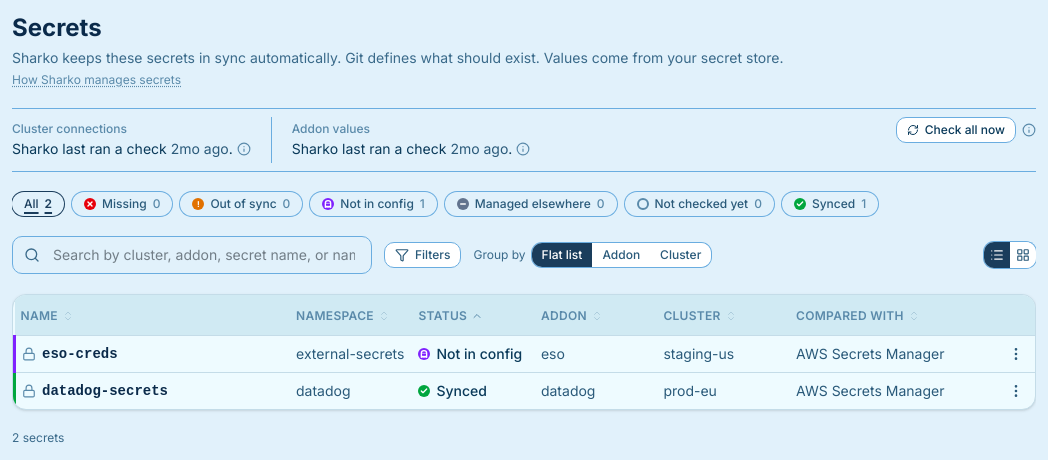
Test case: orphaned rows — the panel › shows the panel sentence (SSF-8 word pass: "Orphaned" → "Not in config")
The width and height of the screenshot is (1048, 460).
Click the button with test id "secret-row-orphaned-staging-us-external-secrets-eso-creds".
click(525, 354)  # box [14,335,1035,372]
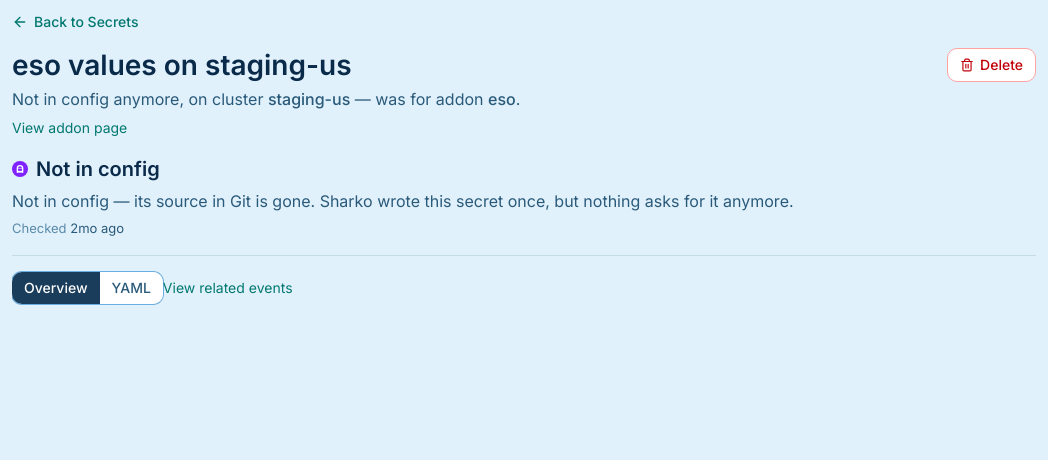
Check: the text with test id "diff-verdict" shows "Not in config — its source in Git is gone. Sharko wrote this secret once, but nothing asks for it anymore.", box [12,191,794,211]
